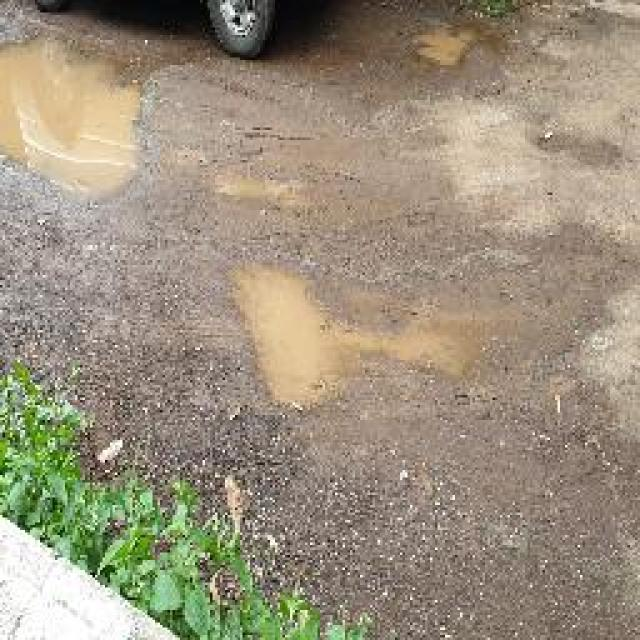puddle: (1, 30, 158, 209), (230, 261, 353, 415)
